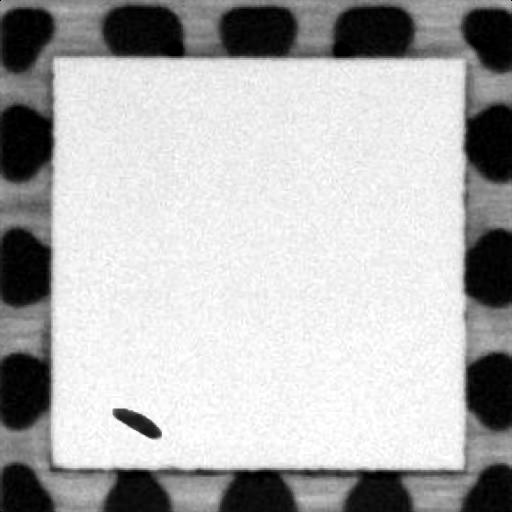DIE_INK: (104, 398, 158, 440)
